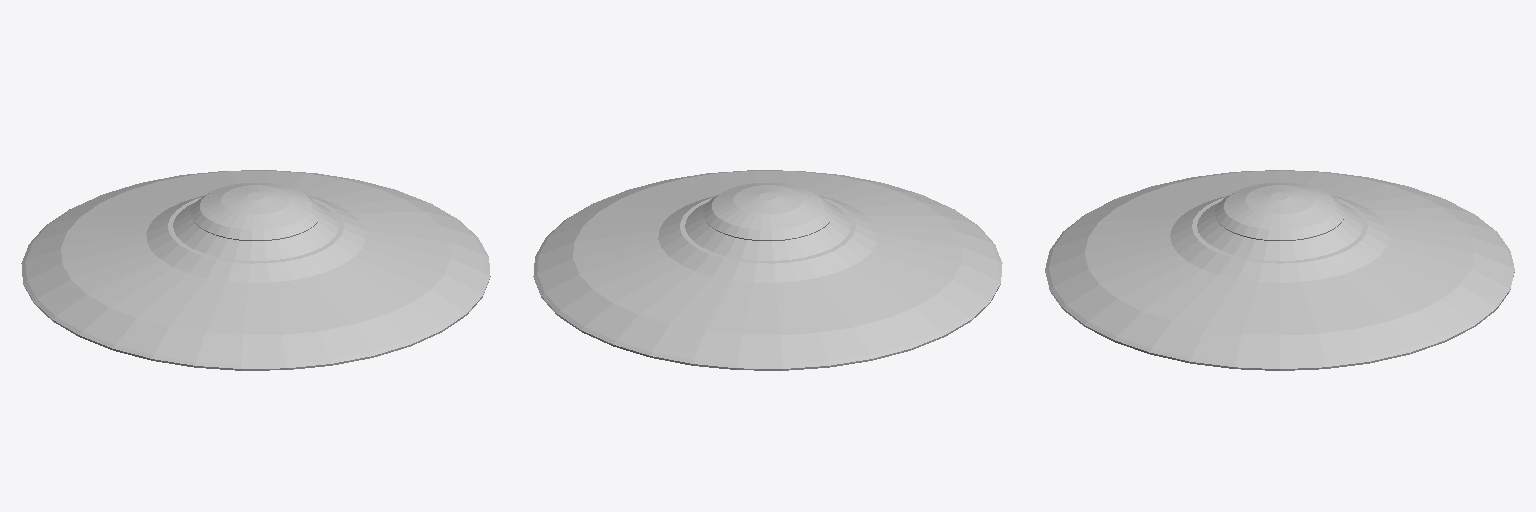
File: UFO.obj
The picture shows the model from 3 angles: view 1: azimuth 30°, elevation 25°; view 2: azimuth 150°, elevation 25°; view 3: azimuth 270°, elevation 25°; orthographic projection.
Parts seen in each view (by area): view 1: Circle; view 2: Circle; view 3: Circle.
Boxes of the visible parts, x1=… form: Circle: x1=21, y1=170, x2=490, y2=370; Circle: x1=533, y1=170, x2=1002, y2=370; Circle: x1=1045, y1=170, x2=1514, y2=370.
Size of the model in its own units: 9.08 by 2.55 by 9.08.